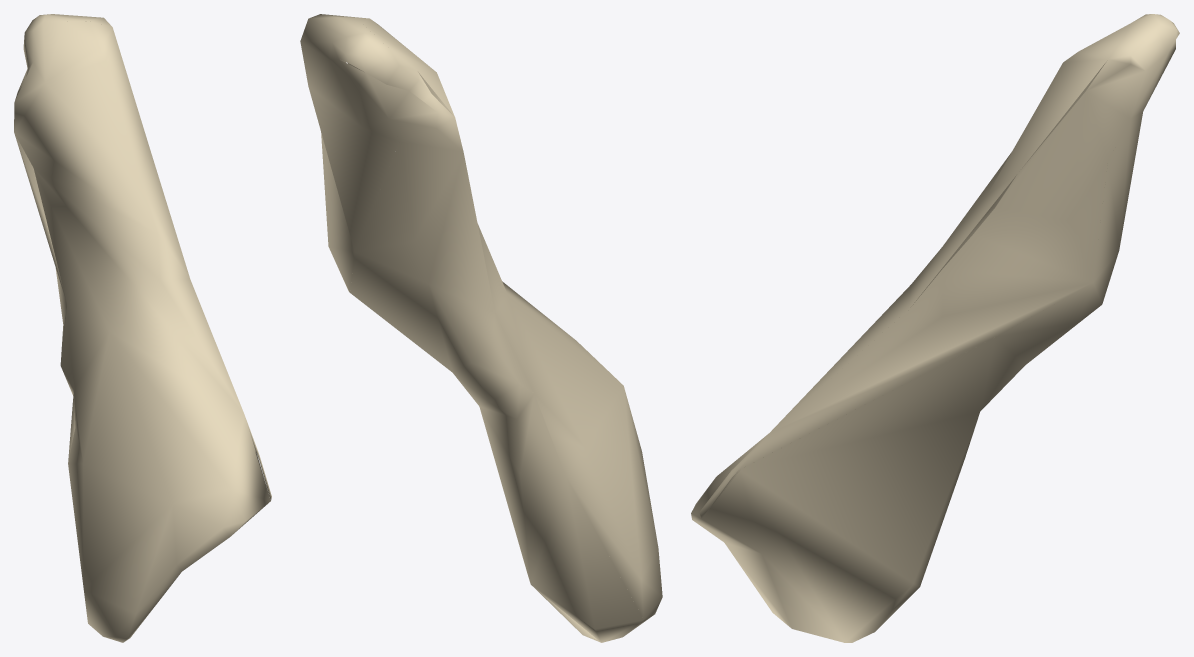
Rendered from esqueleto-nasal-bone-r.glb.
The picture shows the model from 3 angles, left to right: view 1: azimuth 30°, elevation 25°; view 2: azimuth 150°, elevation 25°; view 3: azimuth 270°, elevation 25°; orthographic projection. The views are drawn at different scales.
Visible parts, largest first — view 1: Nasal bone.r; view 2: Nasal bone.r; view 3: Nasal bone.r.
Part boxes in pixels (x1,y1,x2,y2): Nasal bone.r: (14, 14, 271, 642); Nasal bone.r: (300, 14, 662, 642); Nasal bone.r: (691, 14, 1179, 642).
Size of the model in its own units: 0.00835 by 0.0314 by 0.0209.
